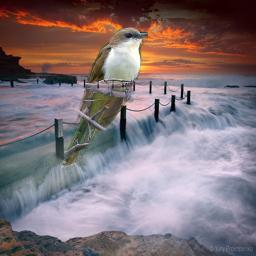Cuckoo: (59, 25, 148, 168)
